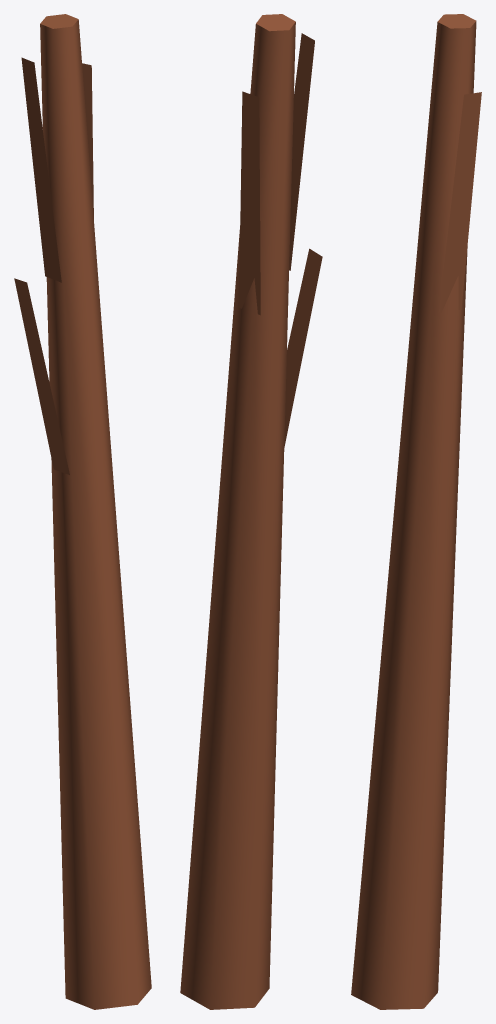
Rendered from cozy_lake_tree_bare_003.glb.
3 renders of one model, left to right at view 1: azimuth 30°, elevation 25°; view 2: azimuth 210°, elevation 25°; view 3: azimuth 270°, elevation 25°, orthographic. The views are drawn at different scales.
Parts seen in each view (by area): view 1: Tree_Bare_003; view 2: Tree_Bare_003; view 3: Tree_Bare_003.
Boxes of the visible parts, x1=… form: Tree_Bare_003: x1=14, y1=14, x2=151, y2=1009; Tree_Bare_003: x1=180, y1=14, x2=322, y2=1009; Tree_Bare_003: x1=351, y1=14, x2=481, y2=1009.
Size of the model in its own units: 7.55 by 66.4 by 8.14.
